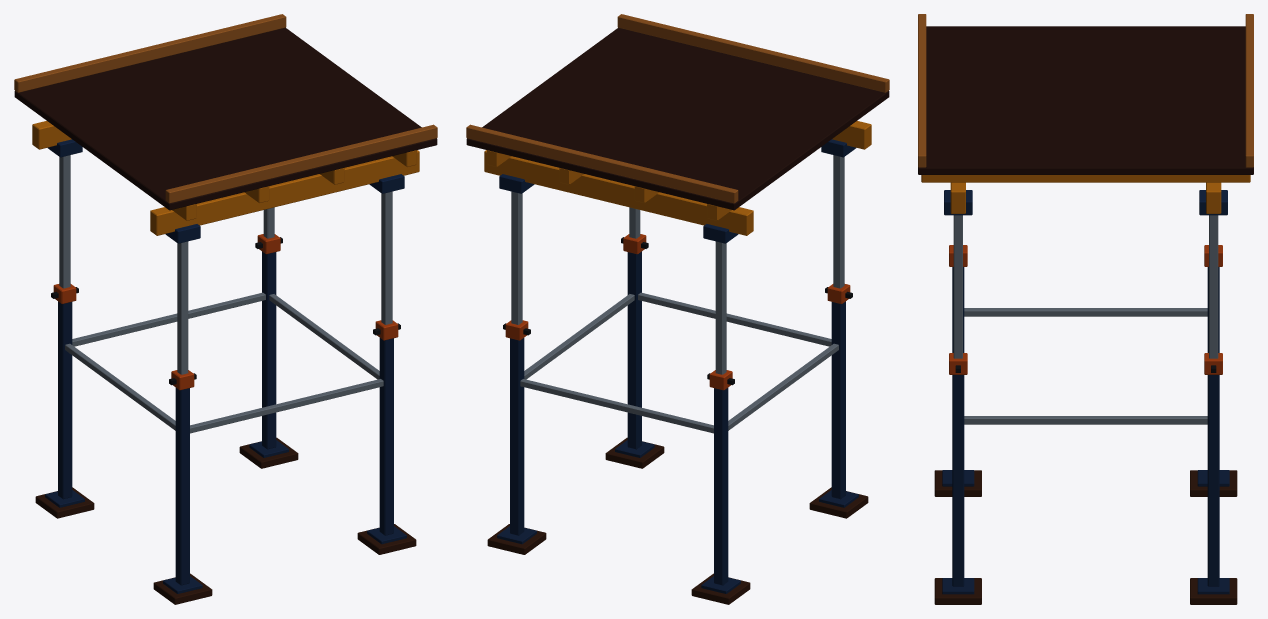
Rendered from mod_telescopic_shoring_2x3m.glb.
3 renders of one model, left to right at view 1: azimuth 30°, elevation 25°; view 2: azimuth 150°, elevation 25°; view 3: azimuth 270°, elevation 25°, orthographic. The views are drawn at different scales.
Parts seen in each view (by area): view 1: Mod_Telescopic_Shoring_2x3m; view 2: Mod_Telescopic_Shoring_2x3m; view 3: Mod_Telescopic_Shoring_2x3m.
Boxes of the visible parts, box(x1,y1,x2,y2) form: Mod_Telescopic_Shoring_2x3m: box(14, 14, 437, 604); Mod_Telescopic_Shoring_2x3m: box(466, 14, 889, 604); Mod_Telescopic_Shoring_2x3m: box(918, 14, 1253, 604).
Bounding box in the file's own units: 2 × 3 × 2.
